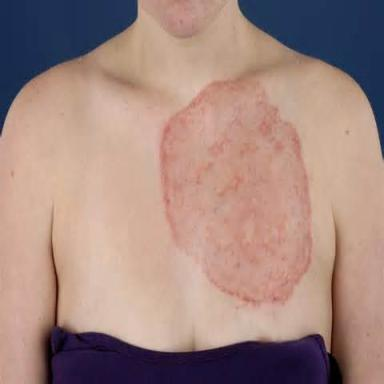Tinea-Corporis: (160, 77, 313, 306)
